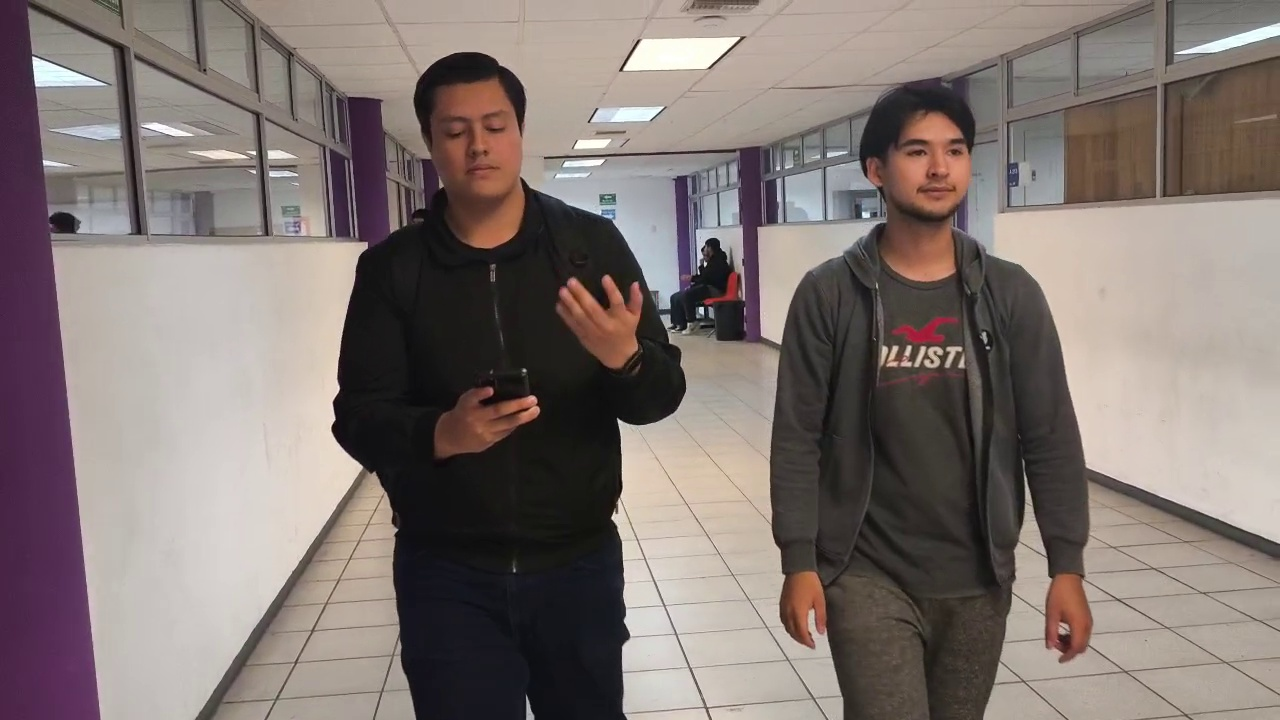mixto2: (464, 361, 536, 415)
